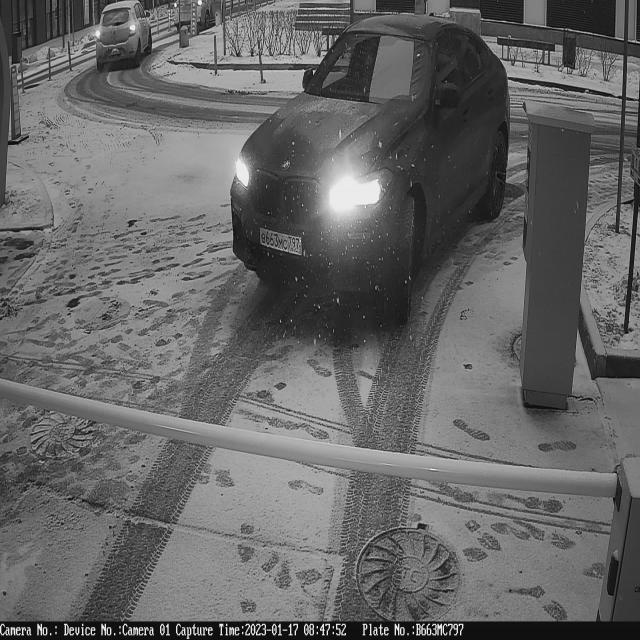car-plate-numbers: (258, 223, 306, 263)
